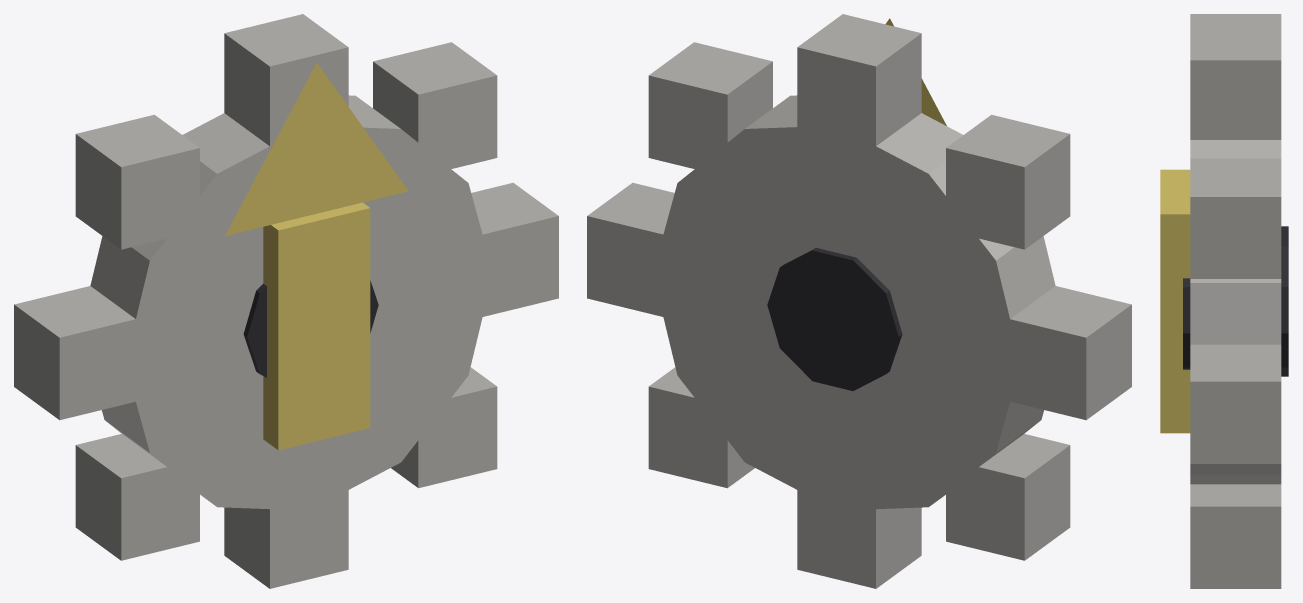
Rendered from upgrade.glb.
3 views of the same model, side by side, from view 1: azimuth 30°, elevation 25°; view 2: azimuth 150°, elevation 25°; view 3: azimuth 270°, elevation 25° (orthographic).
Visible parts, largest first — view 1: upgrade_arma; view 2: upgrade_arma; view 3: upgrade_arma.
Boxes of the visible parts, <box> form: upgrade_arma: <box>14,14,558,588</box>; upgrade_arma: <box>587,14,1131,588</box>; upgrade_arma: <box>1160,14,1288,588</box>.
Size of the model in its own units: 0.38 by 0.38 by 0.085.
